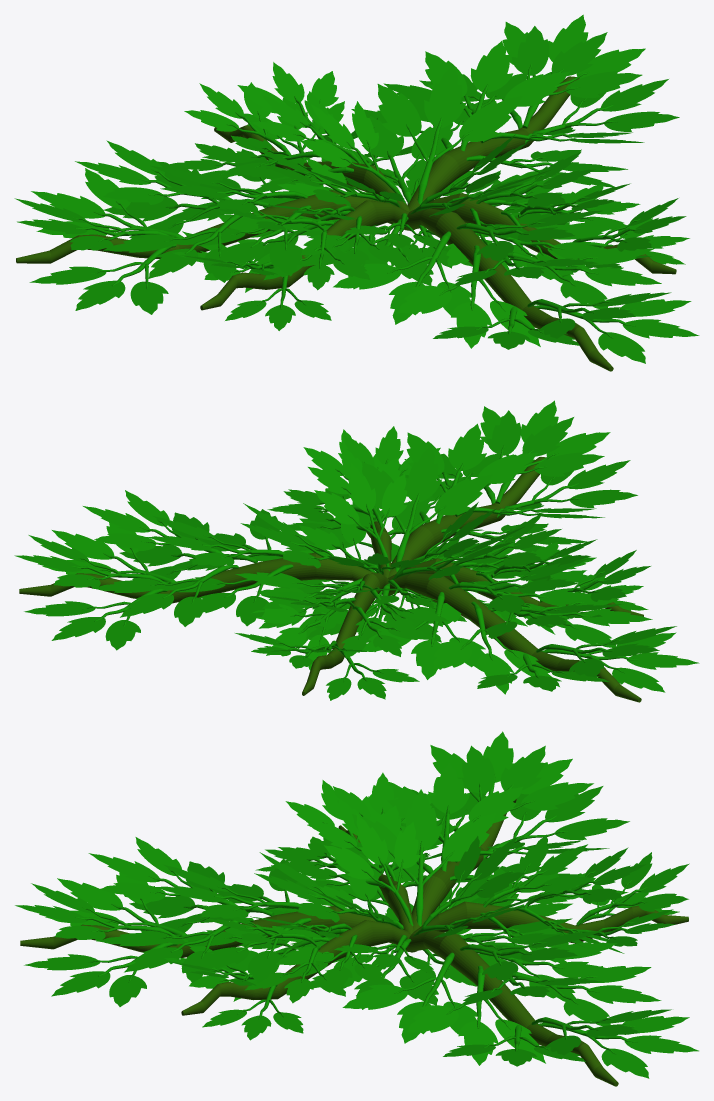
The model's file is poison ivy.fbx.
3 renders of one model, top to bottom at view 1: azimuth 30°, elevation 25°; view 2: azimuth 150°, elevation 25°; view 3: azimuth 270°, elevation 25°, orthographic. The views are drawn at different scales.
Visible parts, largest first — view 1: ivy root.000; view 2: ivy root.000; view 3: ivy root.000.
Part boxes in pixels (x1,y1,x2,y2): ivy root.000: [14, 14, 699, 371]; ivy root.000: [14, 400, 699, 702]; ivy root.000: [15, 731, 698, 1086].
Size of the model in its own units: 378 by 56.43 by 350.
